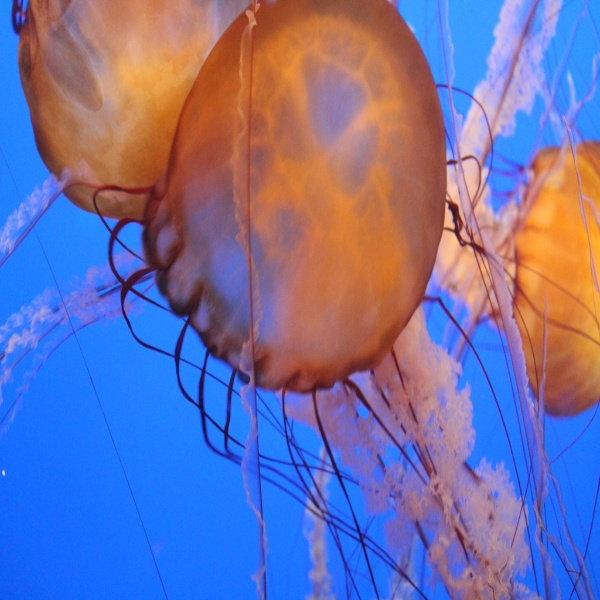Jellyfish: (92, 0, 599, 599), (396, 0, 599, 599), (12, 0, 235, 228)
